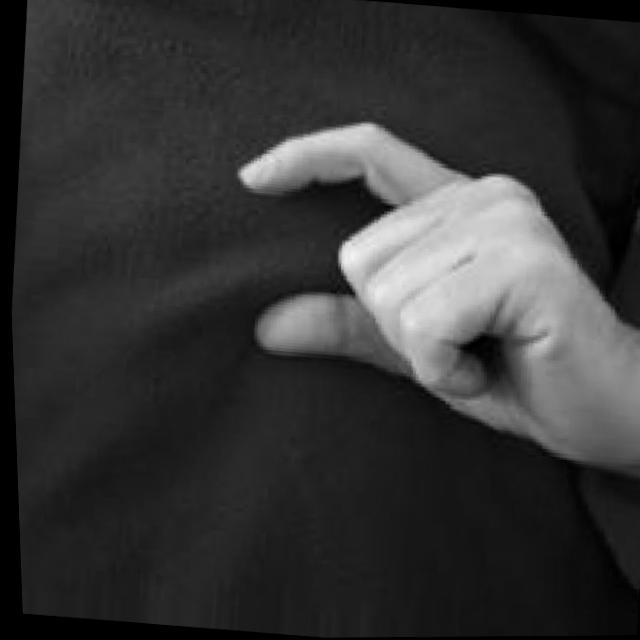C: (201, 102, 640, 481)
